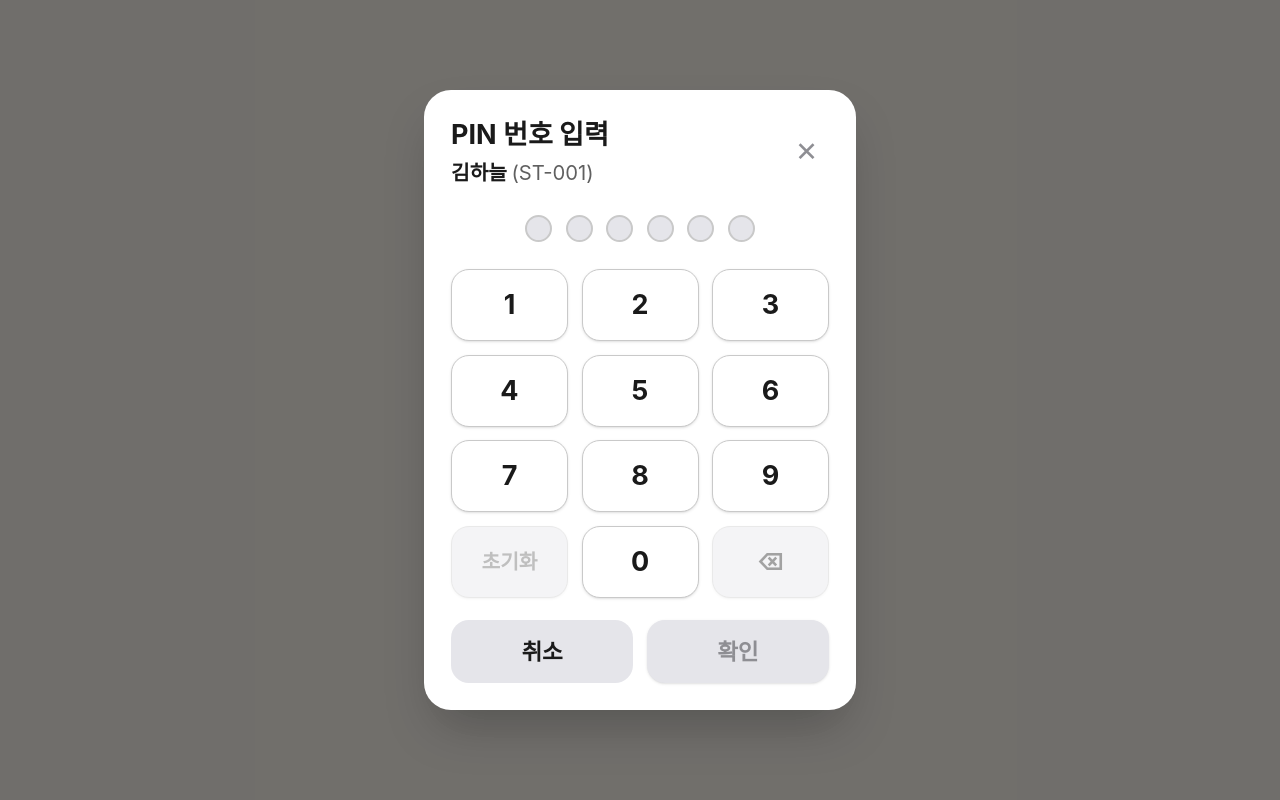
PinPadModal › PIN 불일치 시 남은 시도 횟수 안내를 표시한다
Click the button "1". click: (510,306)
box: top-left (451, 270), bottom-right (568, 342)
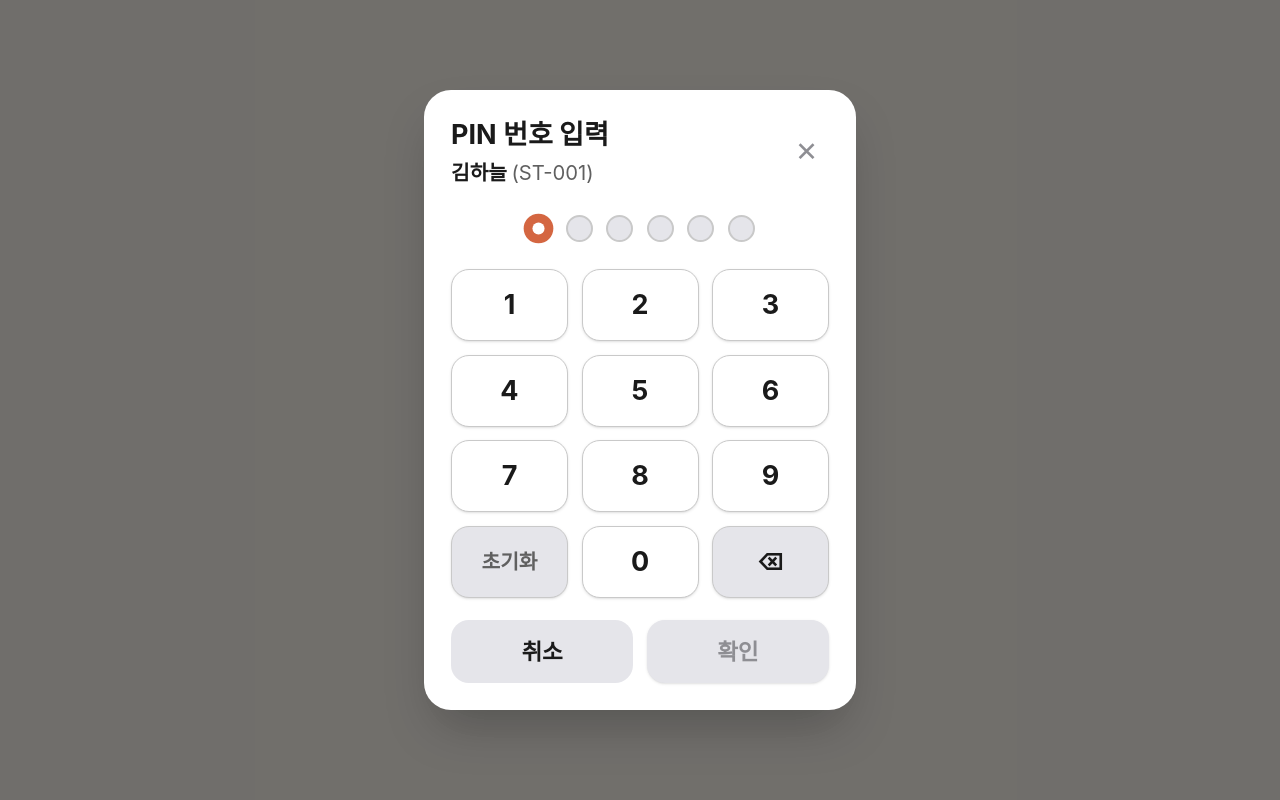
Click the button "1". click: (510,306)
box: top-left (451, 270), bottom-right (568, 342)
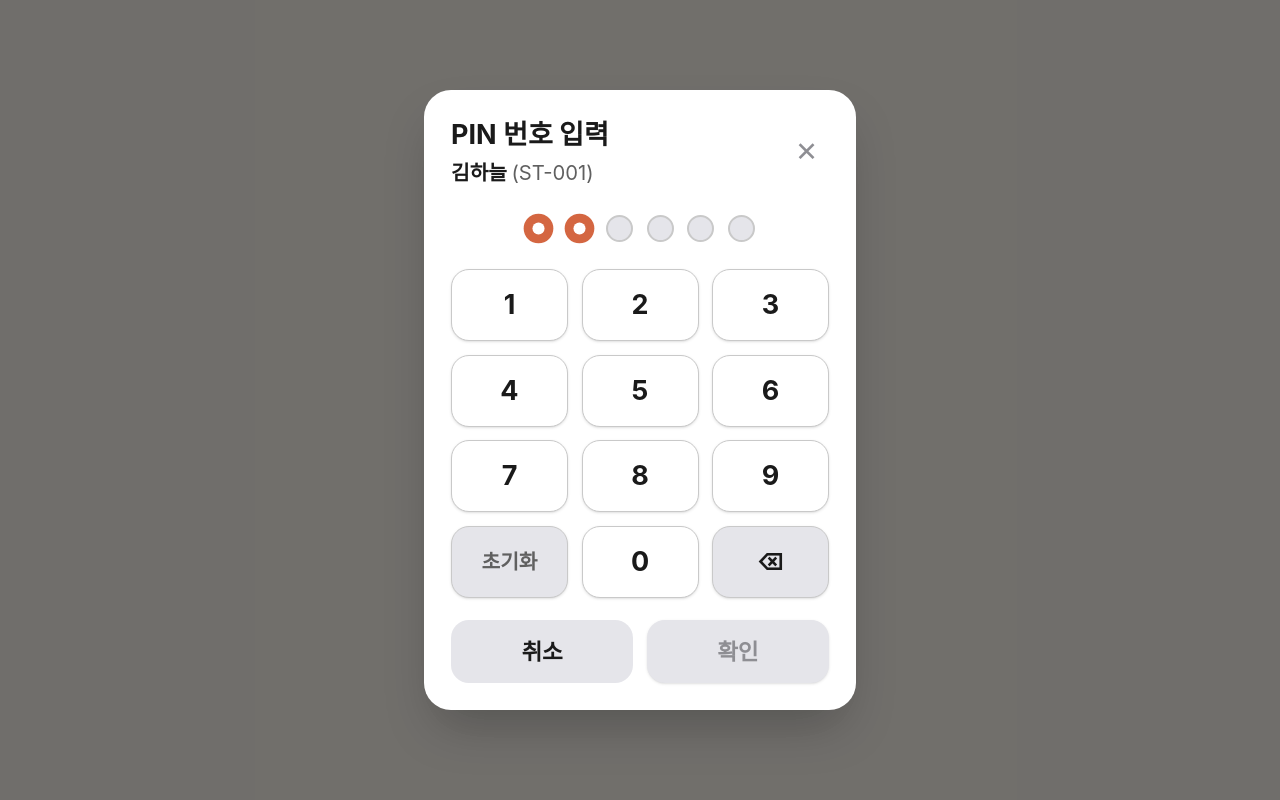
Click the button "1". click: (510,306)
box: top-left (451, 270), bottom-right (568, 342)
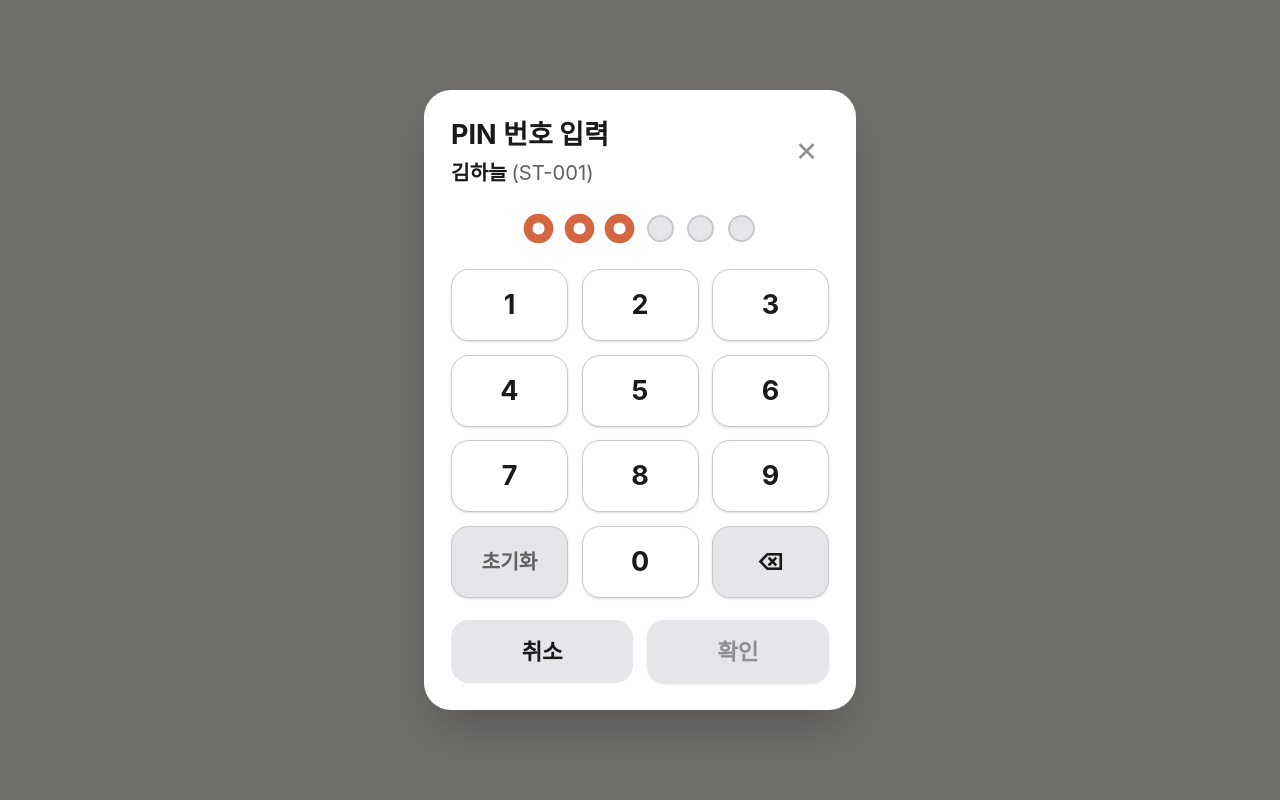
Click the button "1". click: (510,306)
box: top-left (451, 270), bottom-right (568, 342)
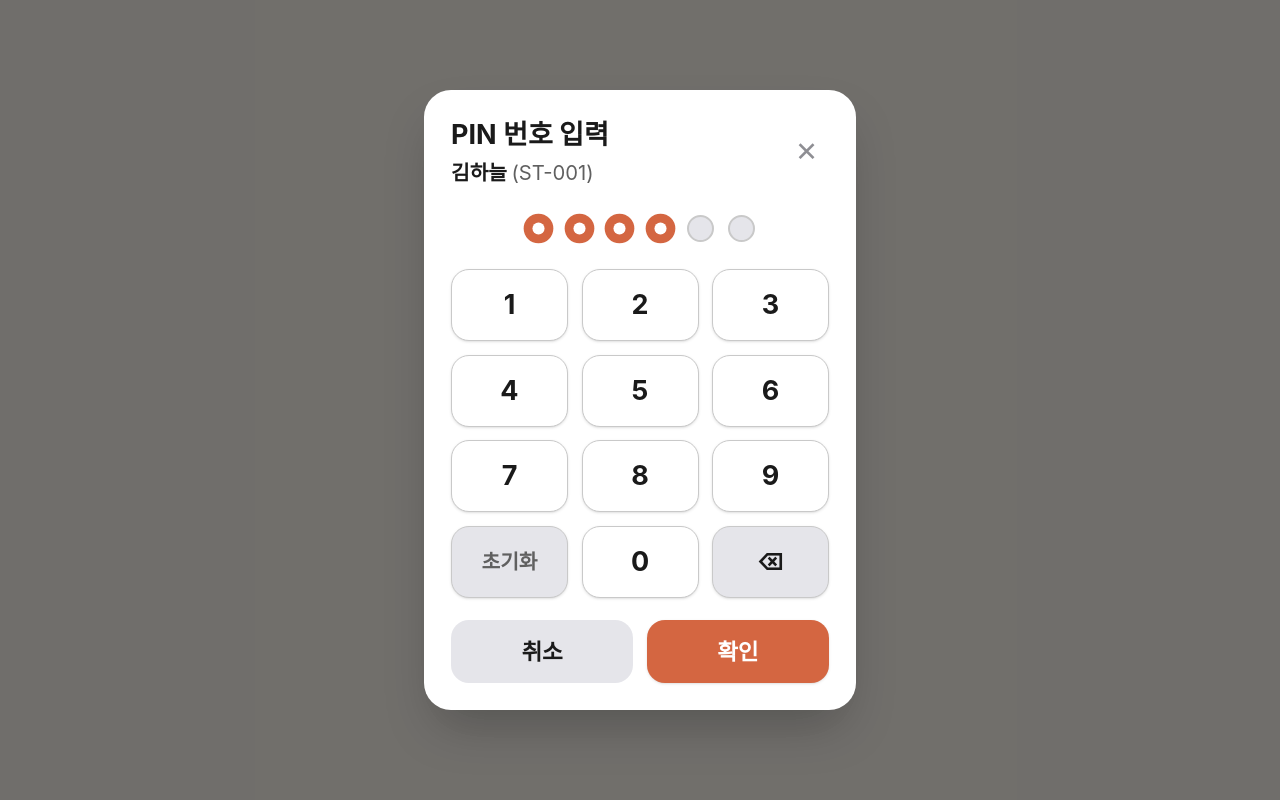
Click the button "확인". click: (738,652)
box: top-left (647, 620), bottom-right (829, 684)
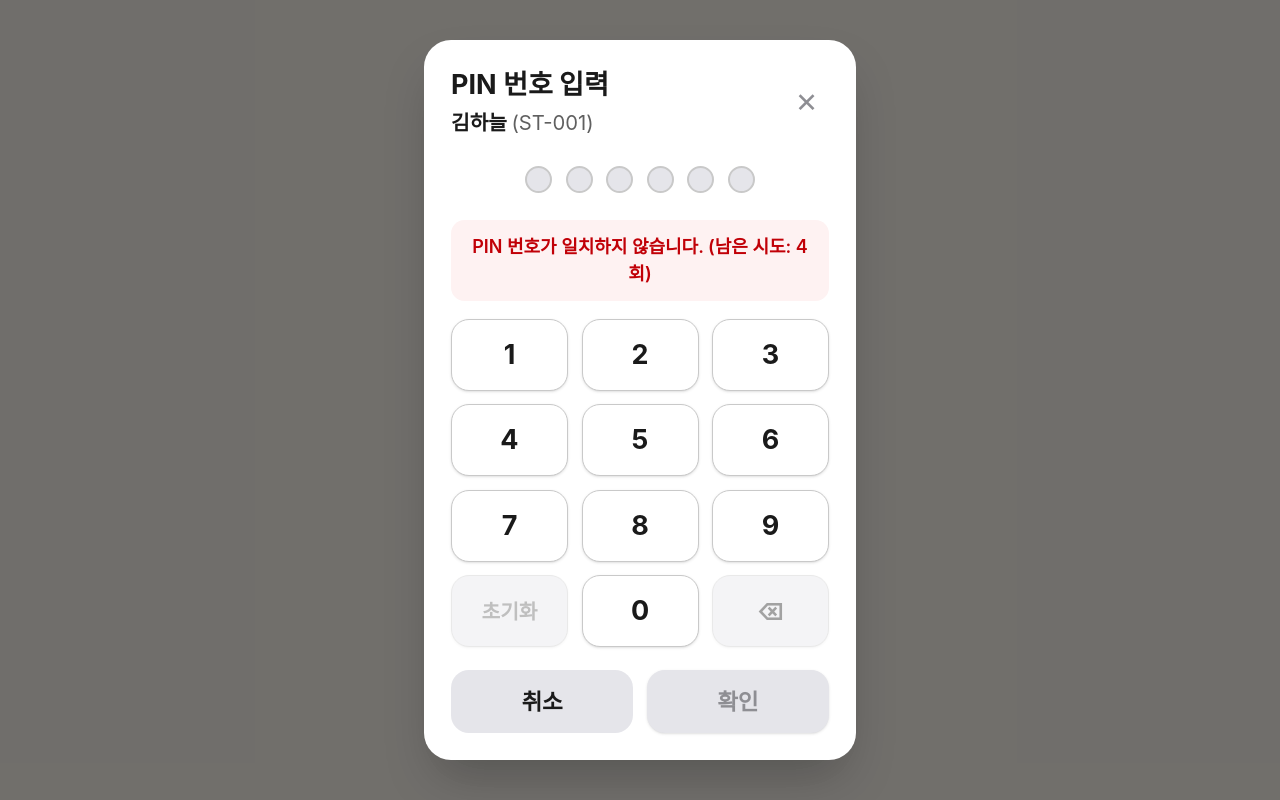
Expected: the message shows "남은 시도: 4회", top-left (472, 236), bottom-right (808, 284)
